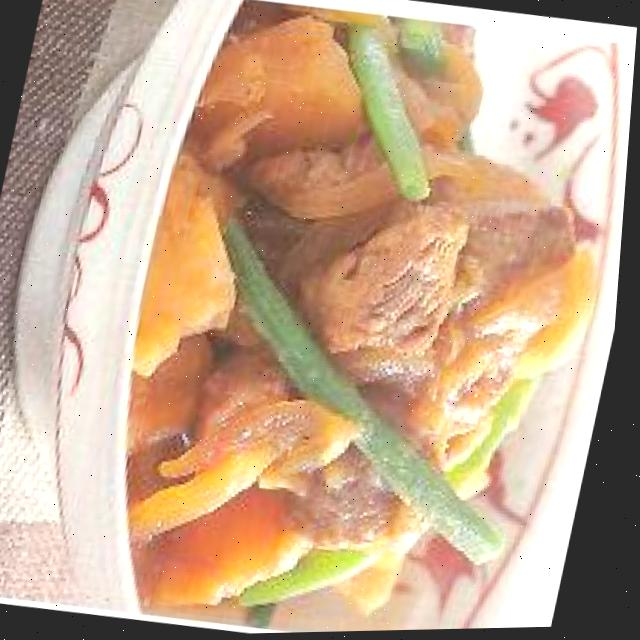牛肉菜式: (75, 1, 639, 638)
